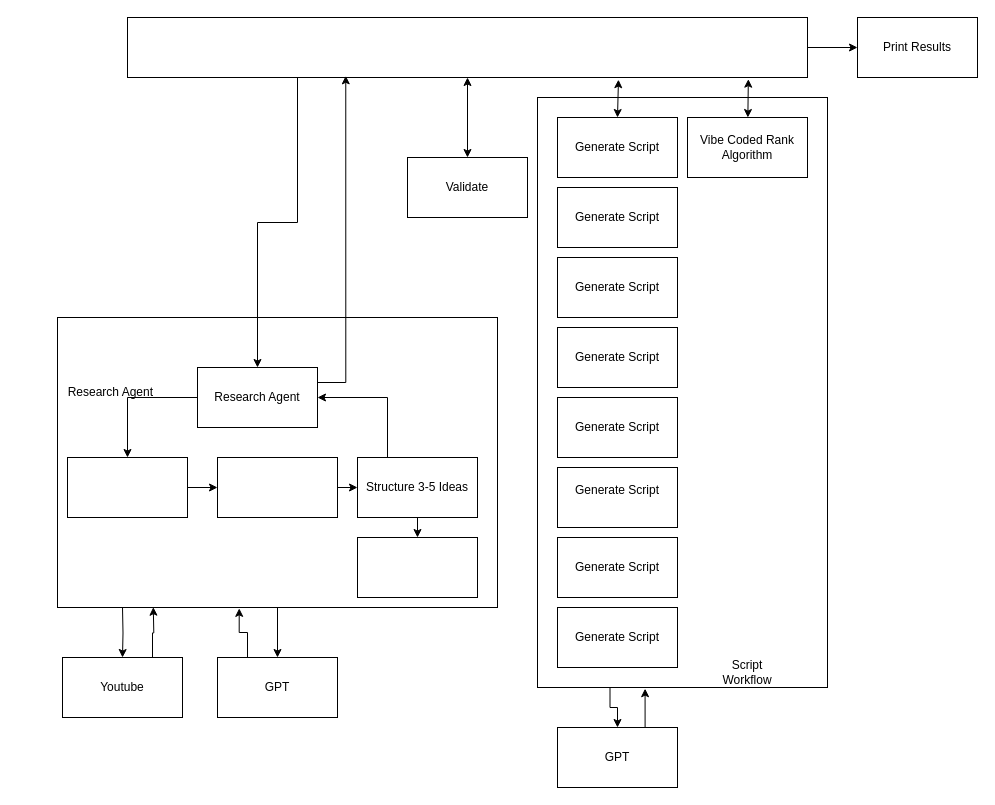
The diagram is 995 pixels wide and 805 high, and some of its shapes have lost their labels. Each missing label, with the centre of its shape:
"Generate Ideas" belongs at [277,487].
"Research" belongs at [127,487].
"Save Ideas" belongs at [417,567].
"Test Workflow" belongs at [467,47].
